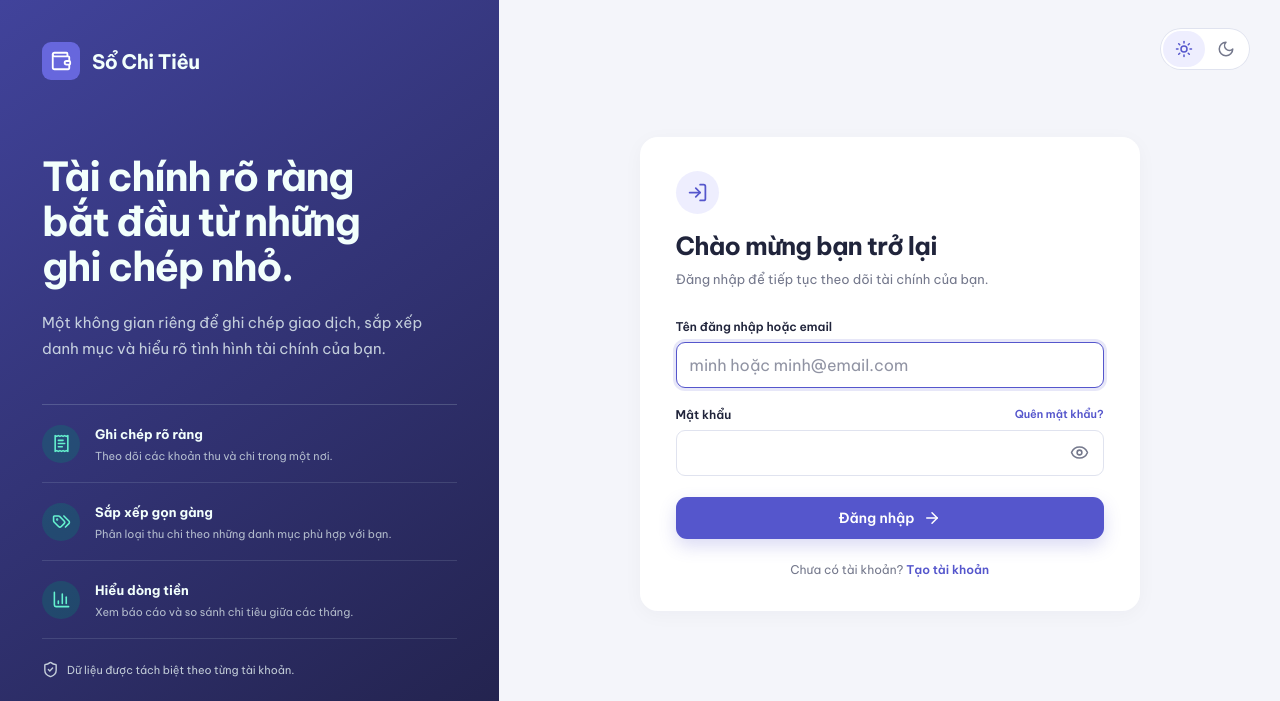
it: authentication pages › logs in successfully and reaches the dashboard
Type " owner " into the field labelled "Tên đăng nhập hoặc email" at (890, 365), box [676,342,1104,388]
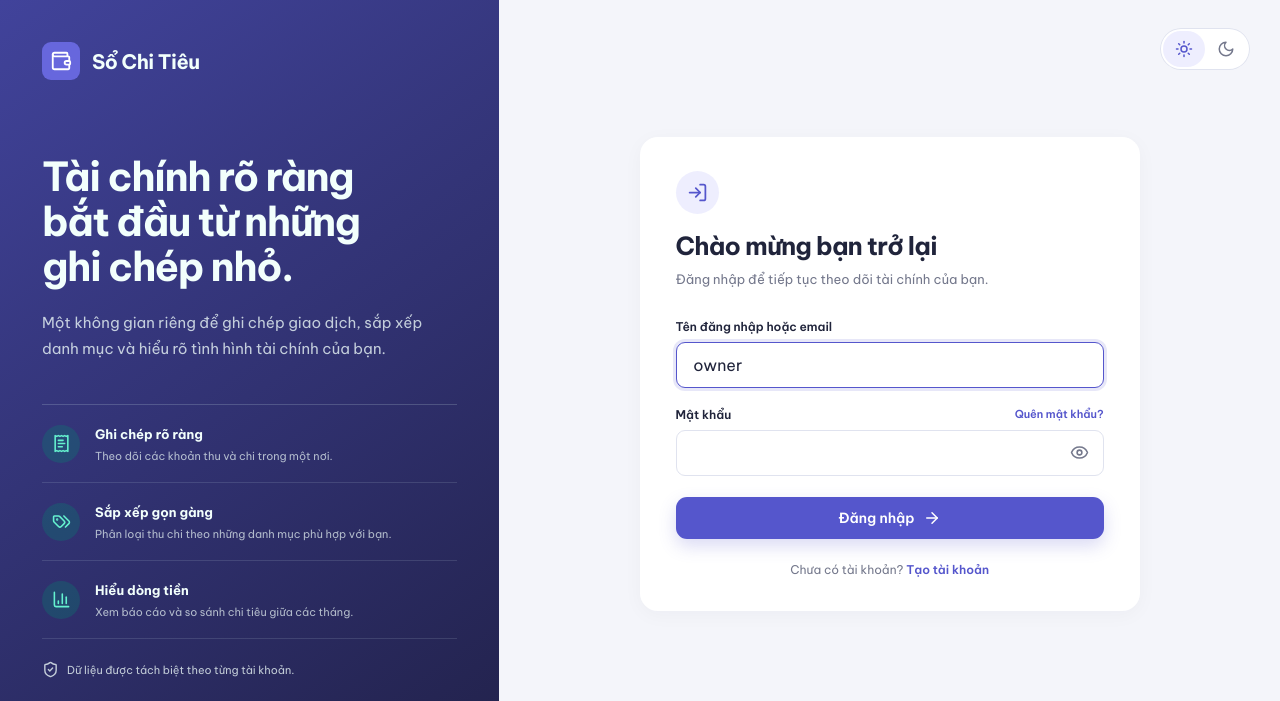
Type "secret" into the password field labelled "Mật khẩu" at (890, 453), box [676,430,1104,476]
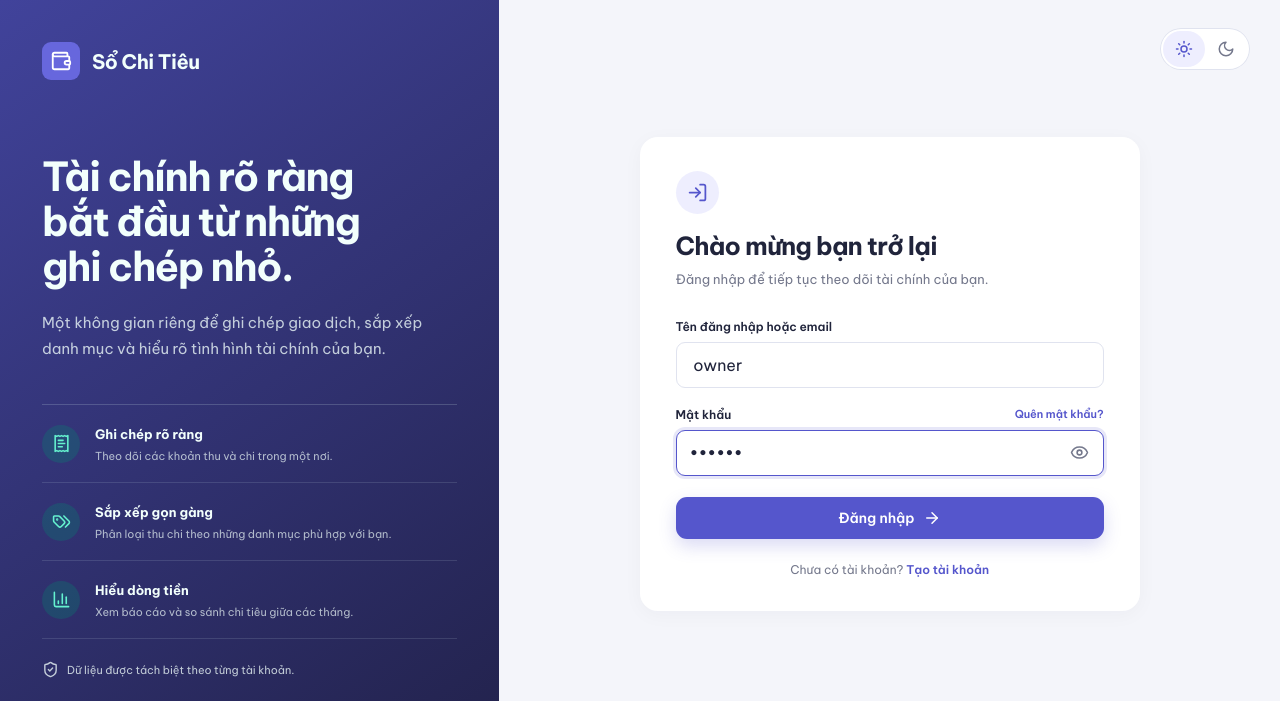
Submit the form, box [676,319,1104,539]
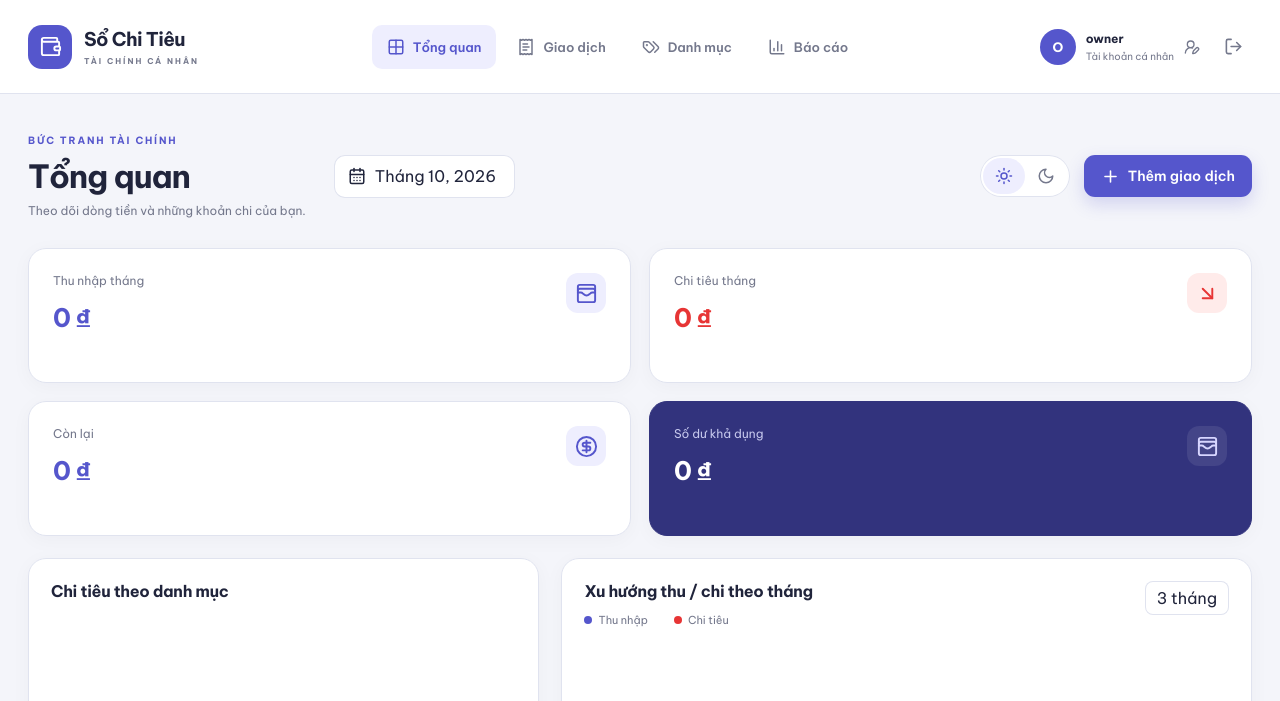
Expected: the heading "Tổng quan" is shown, [28,156,190,196]
